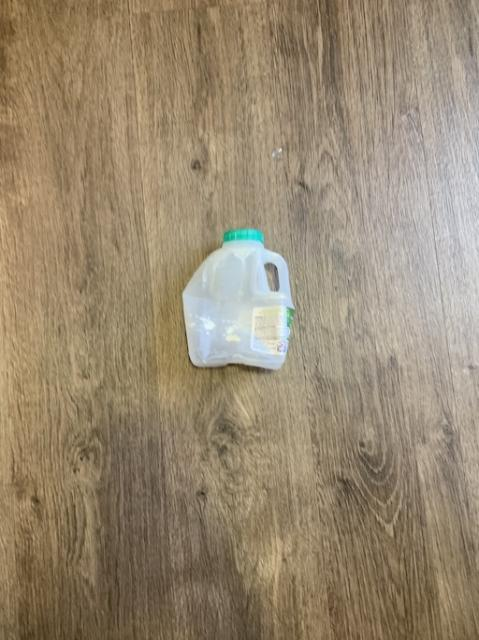plastic: (182, 228, 292, 367)
